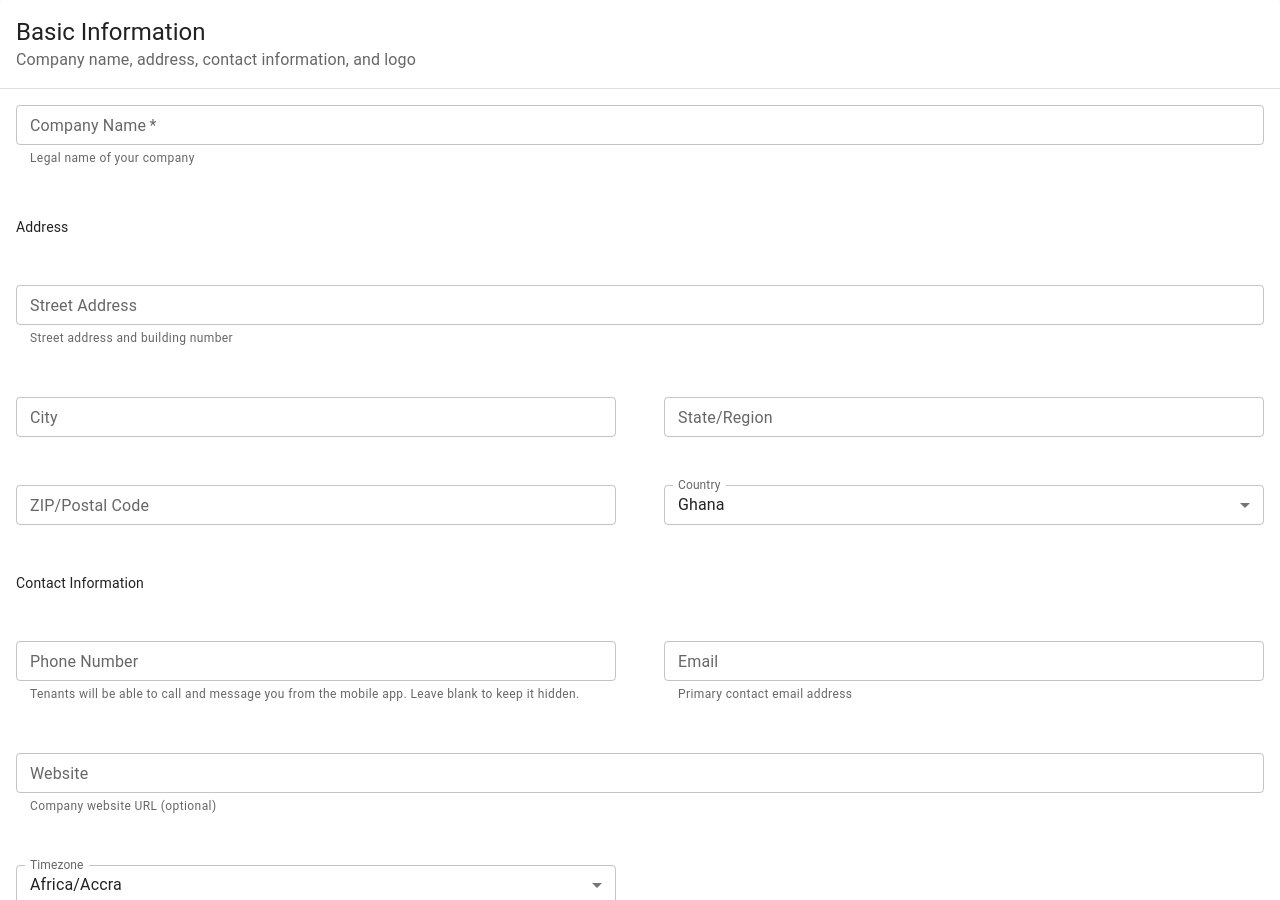
Test case: BasicInformationSettings — the published contact number › shows the normalised number back, since that is what tenants dial
Type "024 123 4567" into the field labelled "Phone Number" at (316, 661), box x1=16 y1=641 x2=616 y2=681
(page scrolled)
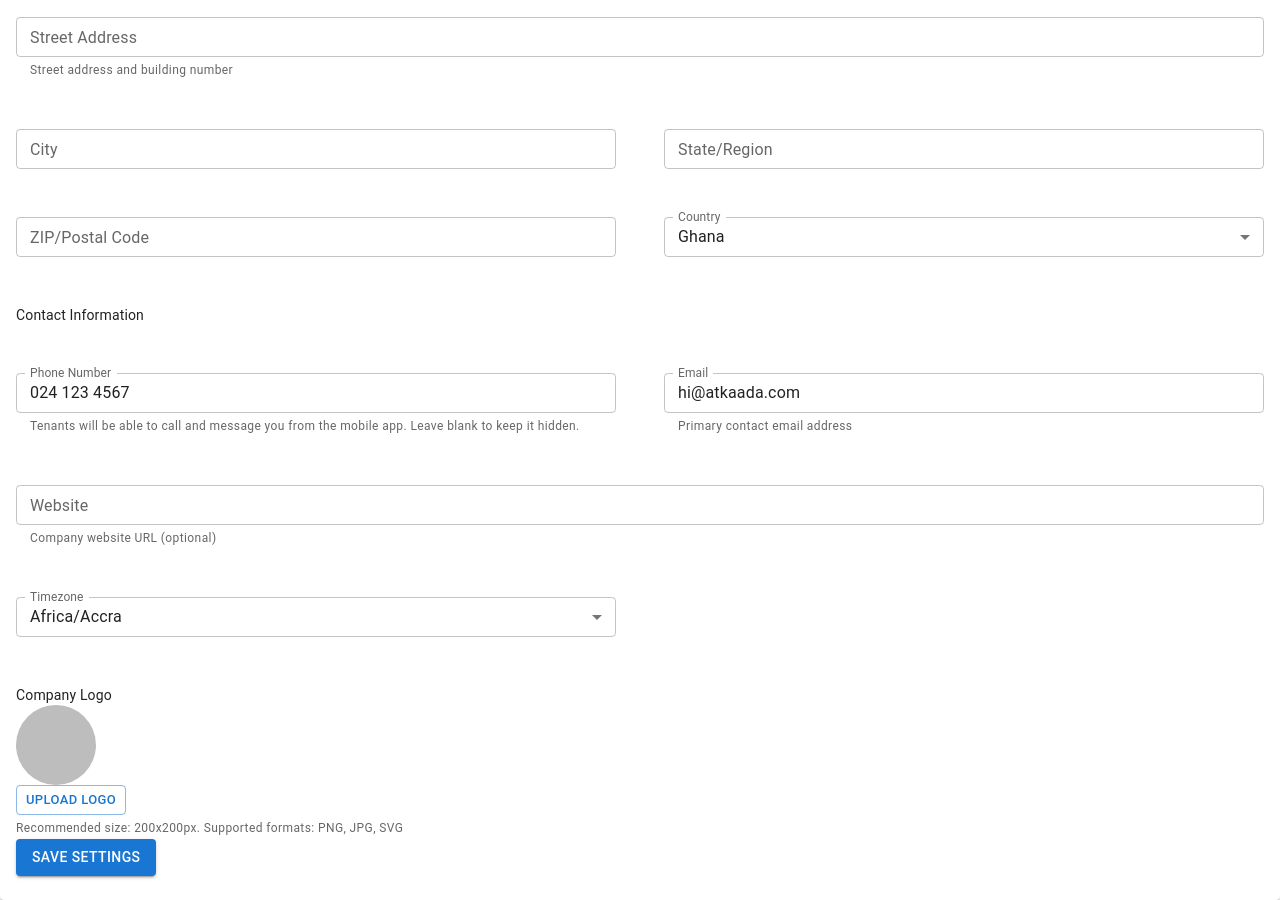
Click the button "Save Settings" at (86, 858), box x1=16 y1=839 x2=156 y2=876
(page scrolled)
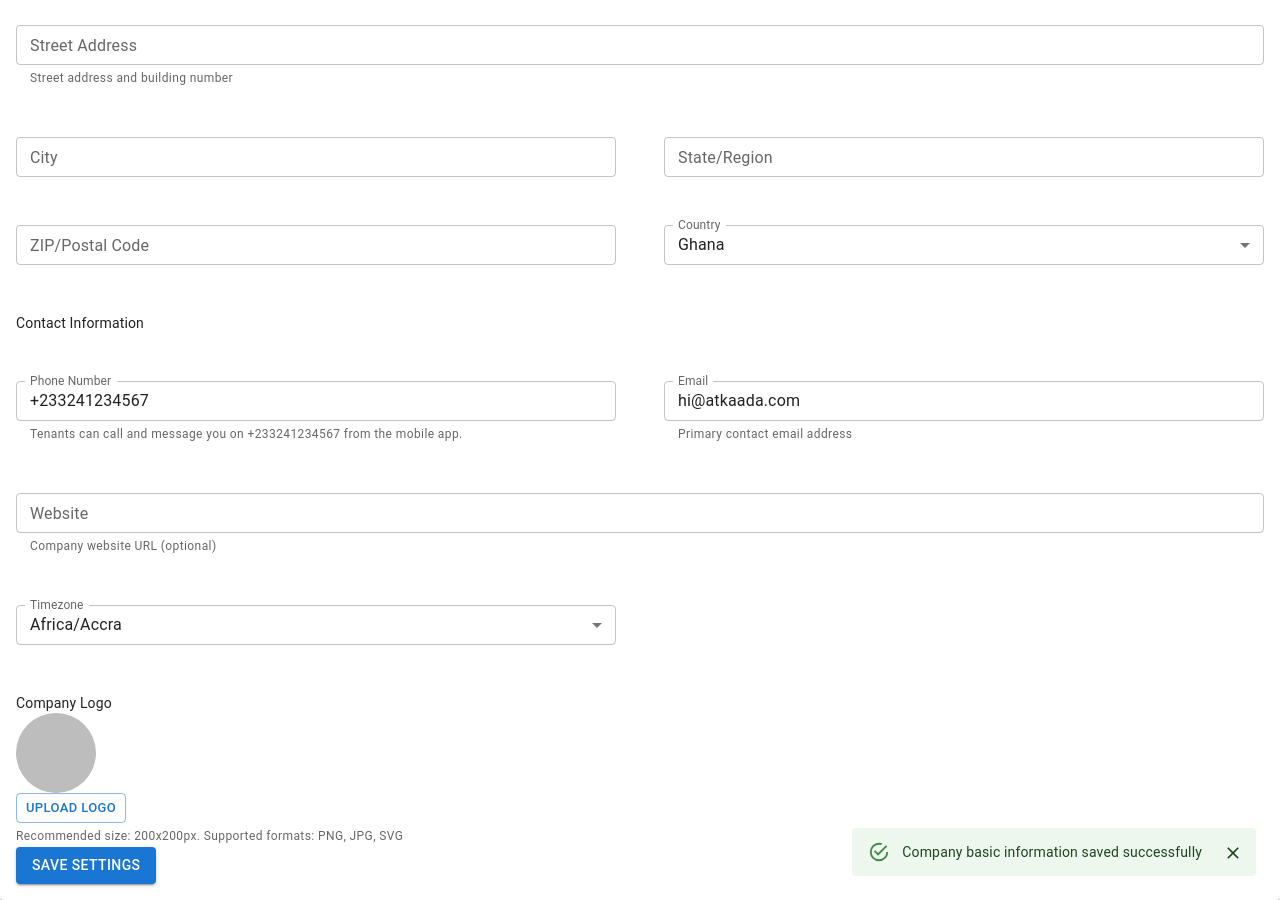
Check: the field labelled "Phone Number" holds "+233241234567", box x1=16 y1=381 x2=616 y2=421
Check: the text "+233241234567" is shown, box x1=30 y1=427 x2=463 y2=441
